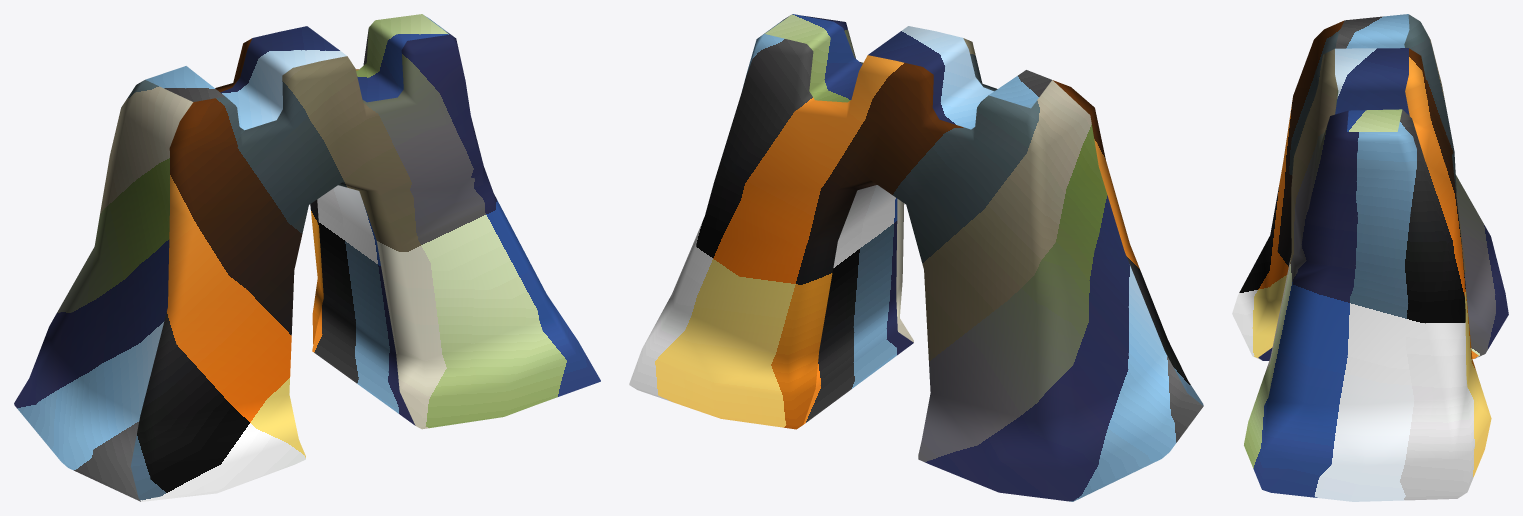
Rendered from Prop_SunlightSandcastleE.glb.
3 renders of one model, left to right at view 1: azimuth 30°, elevation 25°; view 2: azimuth 150°, elevation 25°; view 3: azimuth 270°, elevation 25°, orthographic. The views are drawn at different scales.
Visible parts, largest first — view 1: Prop_SunlightSandcastleE; view 2: Prop_SunlightSandcastleE; view 3: Prop_SunlightSandcastleE.
Part boxes in pixels (x1=…): Prop_SunlightSandcastleE: x1=14, y1=14, x2=600, y2=501; Prop_SunlightSandcastleE: x1=629, y1=14, x2=1203, y2=501; Prop_SunlightSandcastleE: x1=1232, y1=14, x2=1508, y2=501.
Bounding box in the file's own units: 3.92 × 2.74 × 2.05.
Materials: 1 (1 with a texture image).
